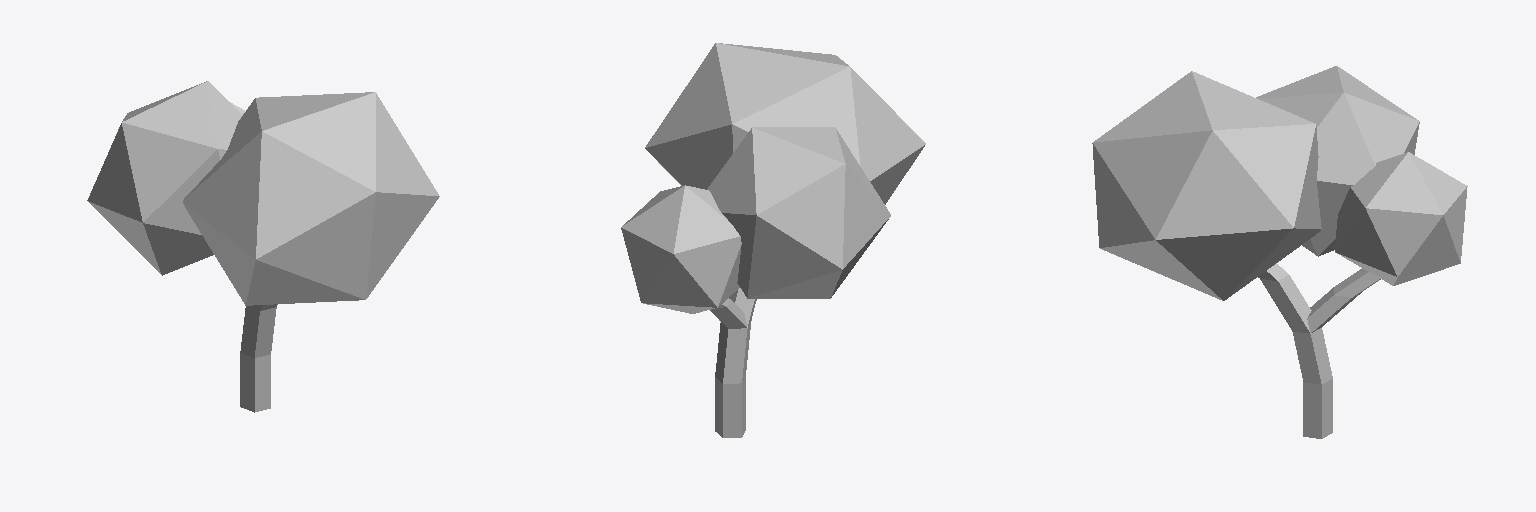
Rendered from trees-1.obj.
The picture shows the model from 3 angles: view 1: azimuth 30°, elevation 25°; view 2: azimuth 150°, elevation 25°; view 3: azimuth 270°, elevation 25°; orthographic projection.
Visible parts, largest first — view 1: Cylinder.001; view 2: Cylinder.001; view 3: Cylinder.001.
Boxes of the visible parts, x1=… form: Cylinder.001: x1=87, y1=81, x2=439, y2=412; Cylinder.001: x1=621, y1=43, x2=925, y2=437; Cylinder.001: x1=1092, y1=66, x2=1467, y2=438.
Size of the model in its own units: 10.33 by 13.58 by 13.78.